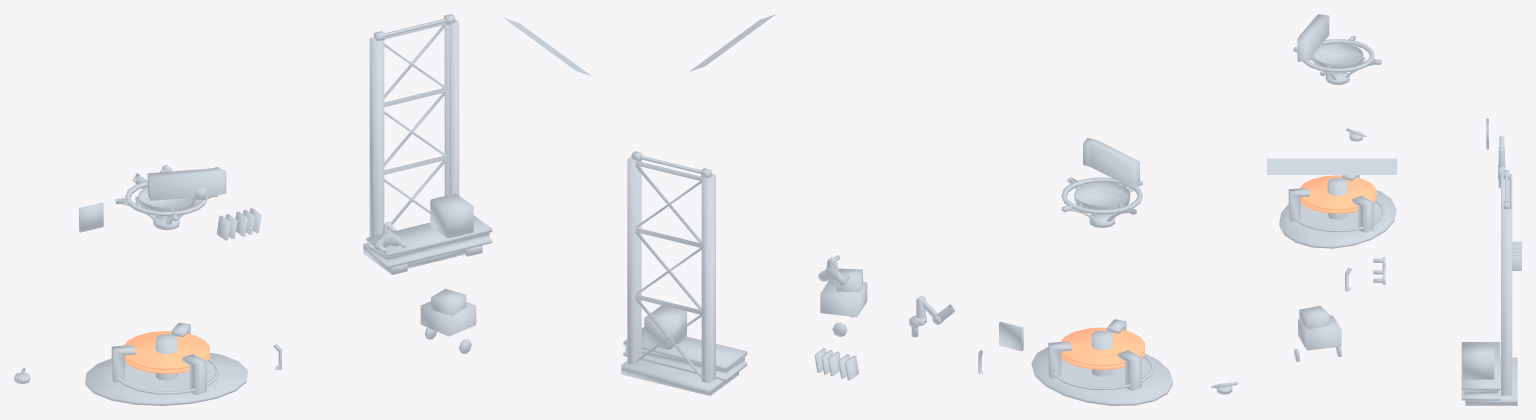
The model's file is recycle_anim_fixed.glb.
3 views of the same model, side by side, from view 1: azimuth 30°, elevation 25°; view 2: azimuth 150°, elevation 25°; view 3: azimuth 270°, elevation 25° (orthographic). The views are drawn at different scales.
Parts seen in each view (by area): view 1: room_inner_4x2x2_recycle_01_static_node, room_inner_4x2x2_recycle_01_moving_node; view 2: room_inner_4x2x2_recycle_01_static_node, room_inner_4x2x2_recycle_01_moving_node; view 3: room_inner_4x2x2_recycle_01_static_node, room_inner_4x2x2_recycle_01_moving_node.
Boxes of the visible parts, x1,y1,x2,y2 form: room_inner_4x2x2_recycle_01_static_node: [14, 14, 591, 405]; room_inner_4x2x2_recycle_01_moving_node: [124, 331, 209, 373]; room_inner_4x2x2_recycle_01_static_node: [621, 14, 1238, 405]; room_inner_4x2x2_recycle_01_moving_node: [1060, 327, 1144, 369]; room_inner_4x2x2_recycle_01_static_node: [1267, 14, 1521, 405]; room_inner_4x2x2_recycle_01_moving_node: [1300, 175, 1376, 213].
Bounding box in the file's own units: 4.3 × 2.08 × 1.97.
